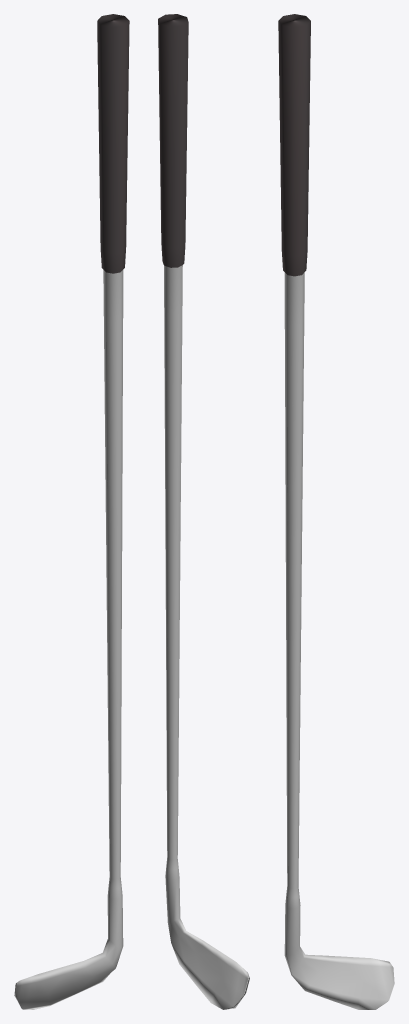
The model's file is GolfClub.fbx.
3 renders of one model, left to right at view 1: azimuth 90°, elevation 25°; view 2: azimuth 210°, elevation 25°; view 3: azimuth 270°, elevation 25°, orthographic. The views are drawn at different scales.
Parts seen in each view (by area): view 1: GoodFishingRod; view 2: GoodFishingRod; view 3: GoodFishingRod.
Part boxes in pixels (<box>): GoodFishingRod: <box>14,14,129,1009</box>; GoodFishingRod: <box>158,14,249,1009</box>; GoodFishingRod: <box>278,14,394,1009</box>.
Size of the model in its own units: 0.3671 by 7.85 by 0.8321.
